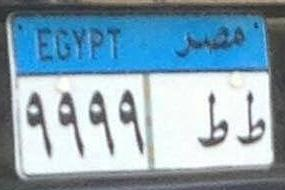9: (84, 87, 117, 161), (117, 86, 150, 157), (54, 89, 85, 160), (24, 90, 53, 160)
Taa: (192, 89, 230, 148), (237, 91, 266, 149)
